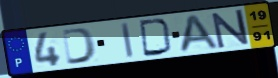4: (32, 30, 63, 68)
A: (177, 13, 222, 55)
D: (60, 26, 99, 66), (138, 18, 174, 58)
I: (120, 21, 136, 59)
N: (210, 8, 252, 50)
